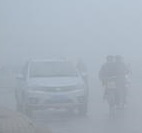person: (98, 52, 116, 111), (114, 54, 133, 109), (76, 60, 89, 78)
